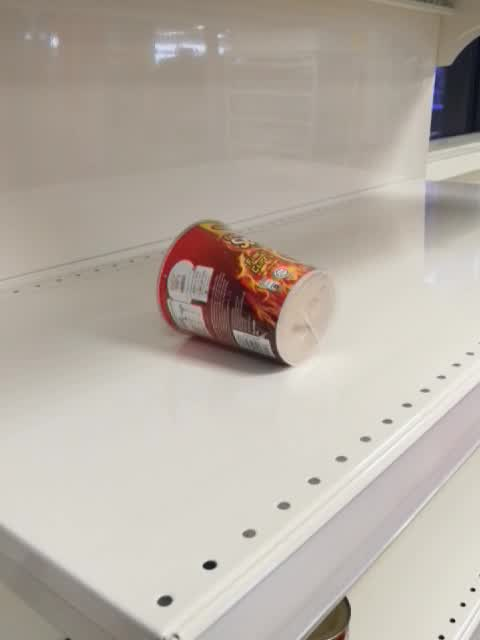maggi: (154, 219, 335, 370)
